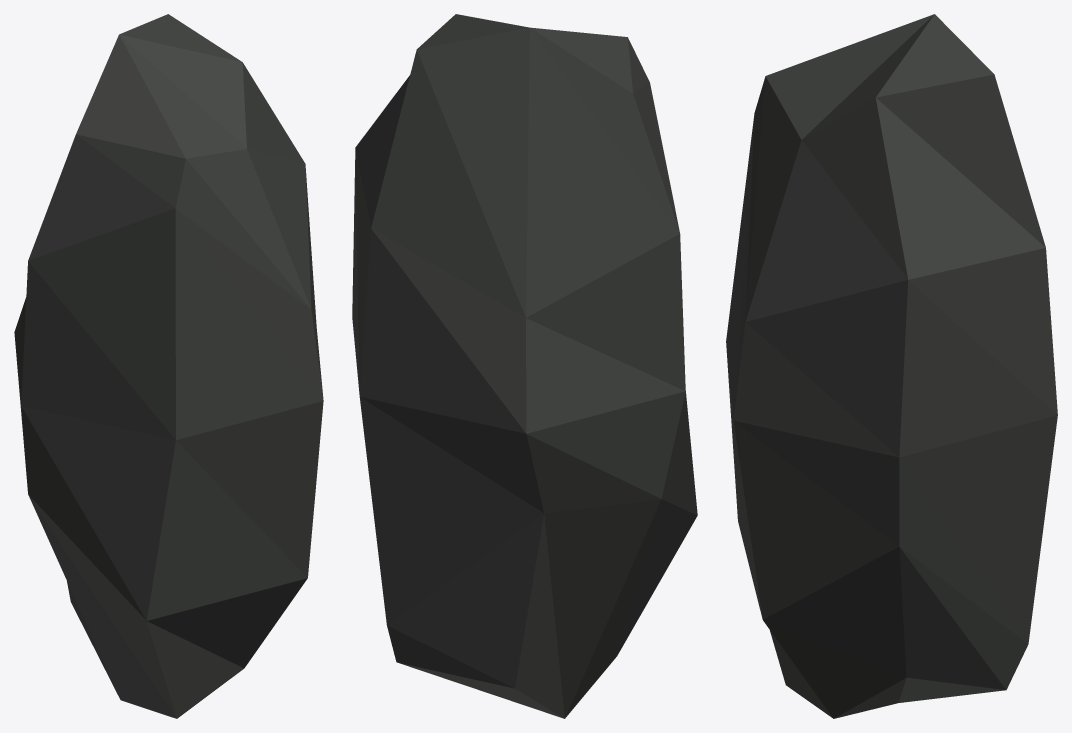
Rendered from Rock_Black_4.fbx.
3 renders of one model, left to right at view 1: azimuth 30°, elevation 25°; view 2: azimuth 150°, elevation 25°; view 3: azimuth 270°, elevation 25°, orthographic. The views are drawn at different scales.
Visible parts, largest first — view 1: Rock_Black_4; view 2: Rock_Black_4; view 3: Rock_Black_4.
Part boxes in pixels (<box>): Rock_Black_4: <box>14,14,323,718</box>; Rock_Black_4: <box>352,14,697,718</box>; Rock_Black_4: <box>726,14,1057,718</box>.
Bounding box in the file's own units: 2 × 4.1 × 1.77.
